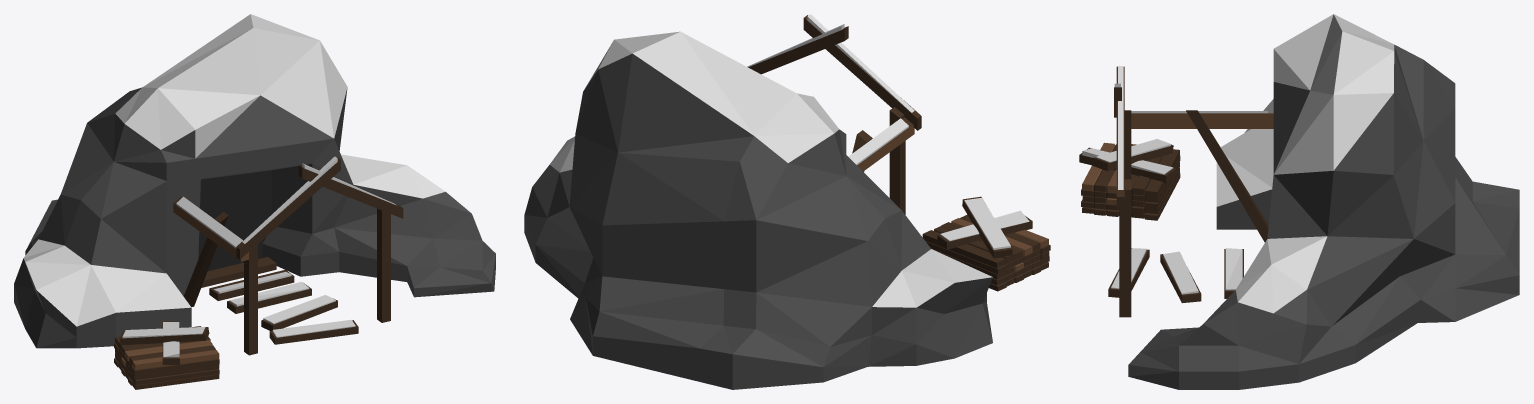
The model's file is mine_build_snow_mat.fbx.
The picture shows the model from 3 angles, left to right: view 1: azimuth 30°, elevation 25°; view 2: azimuth 150°, elevation 25°; view 3: azimuth 270°, elevation 25°; orthographic projection. The views are drawn at different scales.
Visible parts, largest first — view 1: mine_build_snow_mat; view 2: mine_build_snow_mat; view 3: mine_build_snow_mat.
Boxes of the visible parts, bbox=[...] form: mine_build_snow_mat: bbox=[14, 14, 495, 389]; mine_build_snow_mat: bbox=[524, 14, 1050, 389]; mine_build_snow_mat: bbox=[1079, 14, 1519, 389].
Size of the model in its own units: 588 by 320 by 470.
